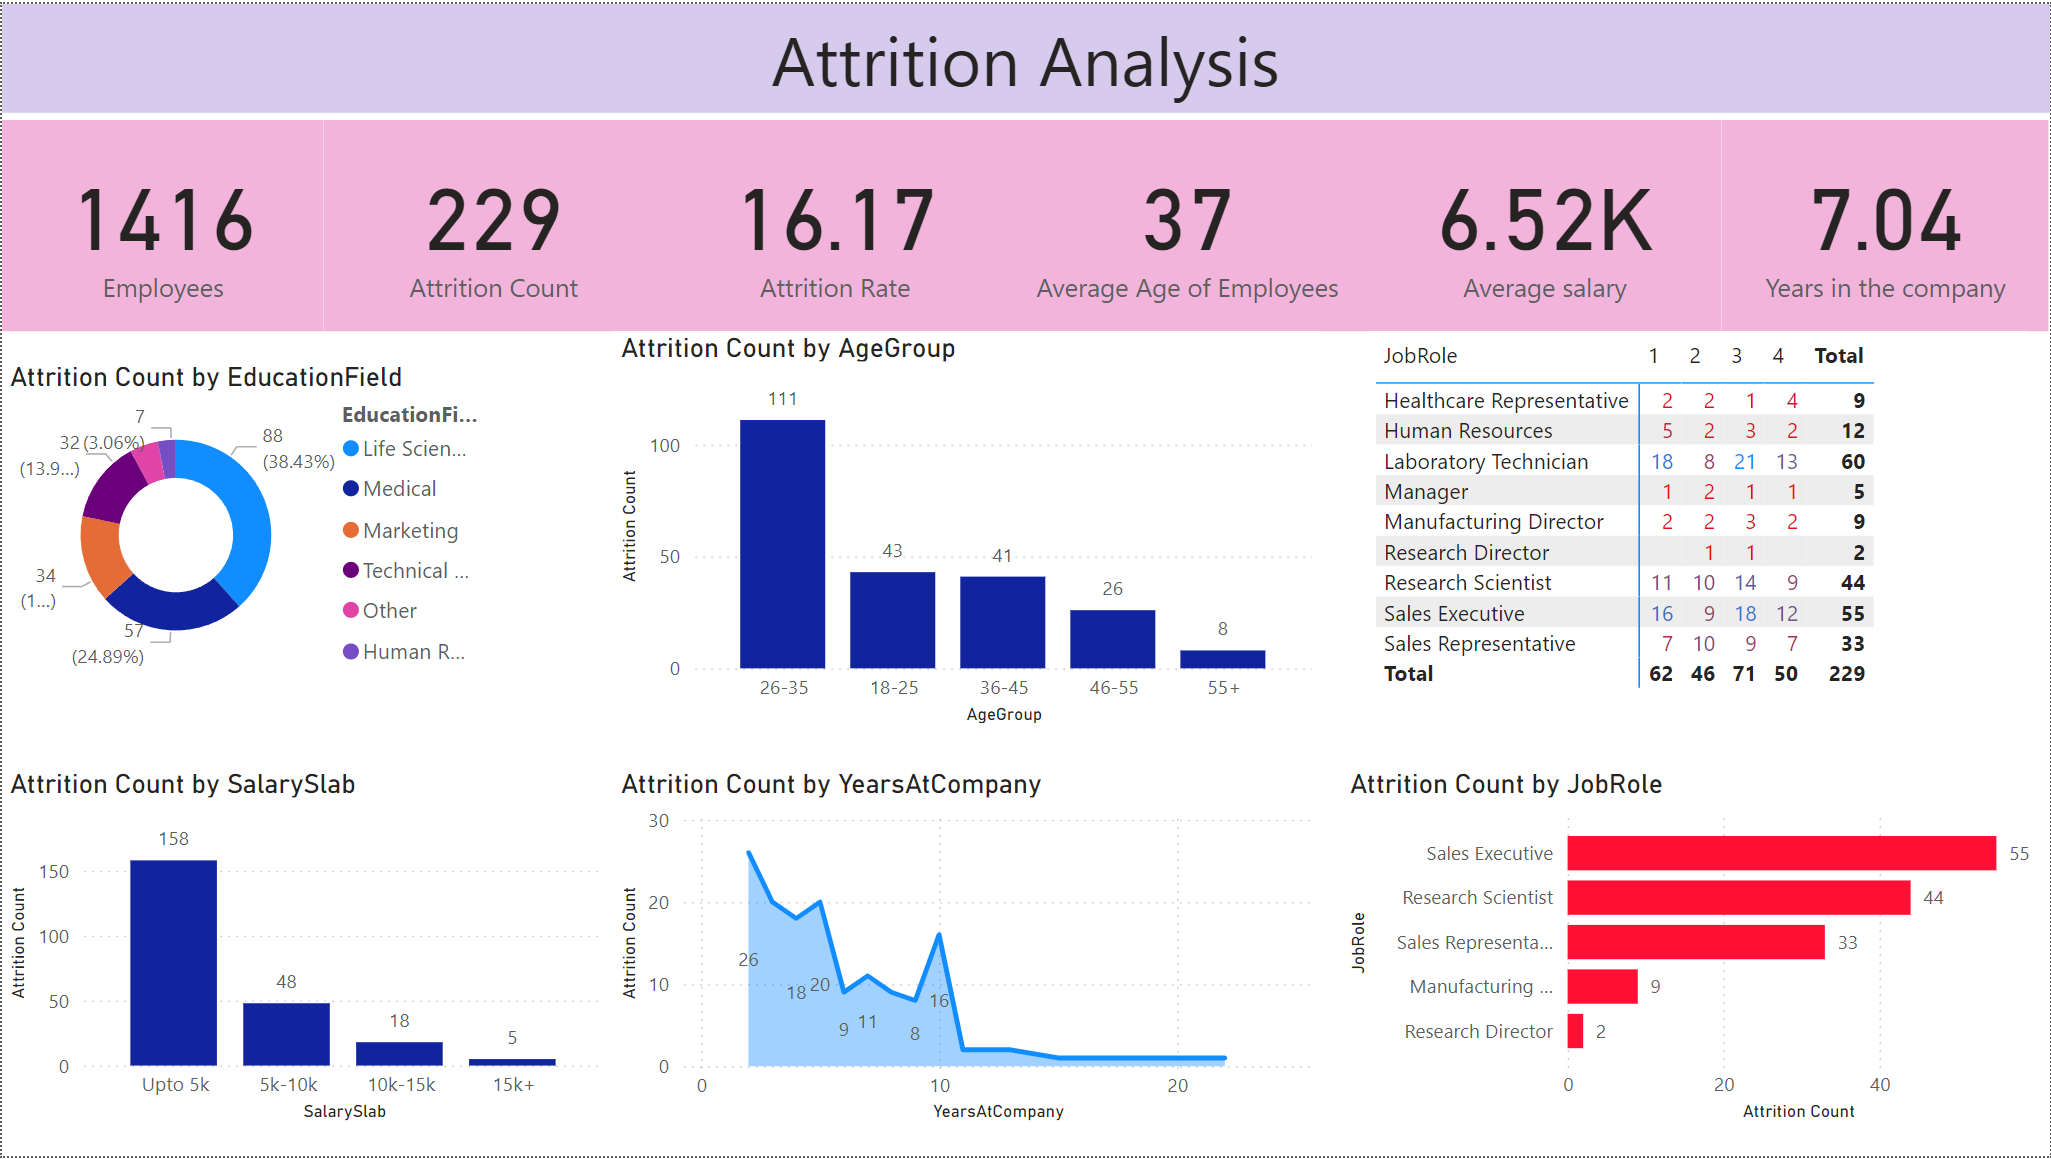

This screenshot's page, from the dashboard's own definition file:
{"tool":"powerbi","page":{"name":"Attrition Analysis","canvas":[1280,720],"ordinal":0},"visuals":[{"type":"textbox","box":[0,0,1279.5,68.1],"z":0},{"type":"card","fields":{"Values":["CountNonNull(HR_Analytics.EmpID)"]},"box":[0,72.7,201.4,131.7],"z":1000},{"type":"card","fields":{"Values":["HR_Analytics.Attrition Count"]},"box":[201.4,72.7,212,131.7],"z":2000},{"type":"card","fields":{"Values":["HR_Analytics.Attrition Rate"]},"box":[413.4,72.7,215,131.7],"z":3000},{"type":"card","fields":{"Values":["Avg(HR_Analytics.Age)"]},"box":[628.4,72.7,225.6,131.7],"z":4000},{"type":"card","fields":{"Values":["Avg(HR_Analytics.MonthlyIncome)"]},"box":[854,72.7,221.1,131.7],"z":5000},{"type":"card","fields":{"Values":["Avg(HR_Analytics.YearsAtCompany)"]},"box":[1075.1,72.7,204.4,131.7],"z":6000},{"type":"donutChart","fields":{"Y":["HR_Analytics.Attrition Count"],"Category":["HR_Analytics.EducationField"]},"box":[0,222.6,307.4,199.9],"z":7000},{"type":"clusteredColumnChart","fields":{"Category":["HR_Analytics.AgeGroup"],"Y":["HR_Analytics.Attrition Count"]},"box":[381.6,204.4,442.1,249.8],"z":8000},{"type":"pivotTable","fields":{"Rows":["HR_Analytics.JobRole"],"Columns":["HR_Analytics.JobSatisfaction"],"Values":["HR_Analytics.Attrition Count"]},"box":[854,204.4,411.9,249.8],"z":9000},{"type":"clusteredColumnChart","fields":{"Category":["HR_Analytics.SalarySlab"],"Y":["HR_Analytics.Attrition Count"]},"box":[0,477,381.6,225.6],"z":10000},{"type":"clusteredBarChart","fields":{"Y":["HR_Analytics.Attrition Count"],"Category":["HR_Analytics.JobRole"]},"box":[837.4,477,442.1,225.6],"z":11000},{"type":"stackedAreaChart","fields":{"Category":["HR_Analytics.YearsAtCompany"],"Y":["HR_Analytics.Attrition Count"]},"box":[382,477,442,226],"z":12000}]}

Visuals, with their boxes in screenshot pixels (x1, y1, x2, y2), scaled from the page's 1280x720 canvas onto the 2051x1159 screenshot:
textbox: {"x1": 0, "y1": 0, "x2": 2050, "y2": 110}
card - CountNonNull(HR_Analytics.EmpID): {"x1": 0, "y1": 117, "x2": 323, "y2": 329}
card - HR_Analytics.Attrition Count: {"x1": 323, "y1": 117, "x2": 662, "y2": 329}
card - HR_Analytics.Attrition Rate: {"x1": 662, "y1": 117, "x2": 1007, "y2": 329}
card - Avg(HR_Analytics.Age): {"x1": 1007, "y1": 117, "x2": 1368, "y2": 329}
card - Avg(HR_Analytics.MonthlyIncome): {"x1": 1368, "y1": 117, "x2": 1723, "y2": 329}
card - Avg(HR_Analytics.YearsAtCompany): {"x1": 1723, "y1": 117, "x2": 2050, "y2": 329}
donutChart - HR_Analytics.Attrition Count x HR_Analytics.EducationField: {"x1": 0, "y1": 358, "x2": 493, "y2": 680}
clusteredColumnChart - HR_Analytics.AgeGroup x HR_Analytics.Attrition Count: {"x1": 611, "y1": 329, "x2": 1320, "y2": 731}
pivotTable - HR_Analytics.JobRole x HR_Analytics.JobSatisfaction: {"x1": 1368, "y1": 329, "x2": 2028, "y2": 731}
clusteredColumnChart - HR_Analytics.SalarySlab x HR_Analytics.Attrition Count: {"x1": 0, "y1": 768, "x2": 611, "y2": 1131}
clusteredBarChart - HR_Analytics.Attrition Count x HR_Analytics.JobRole: {"x1": 1342, "y1": 768, "x2": 2050, "y2": 1131}
stackedAreaChart - HR_Analytics.YearsAtCompany x HR_Analytics.Attrition Count: {"x1": 612, "y1": 768, "x2": 1320, "y2": 1132}
